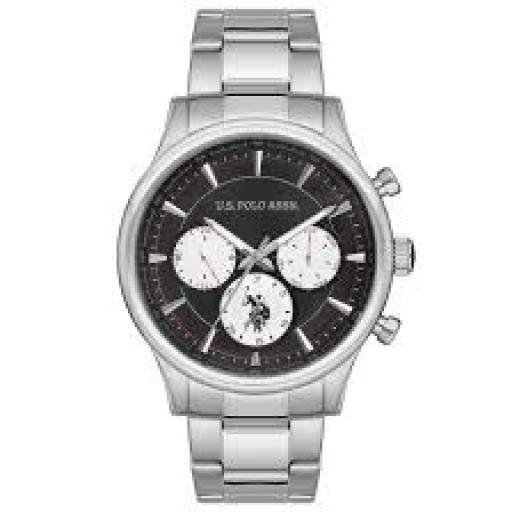KolSaati: (112, 1, 441, 509)
